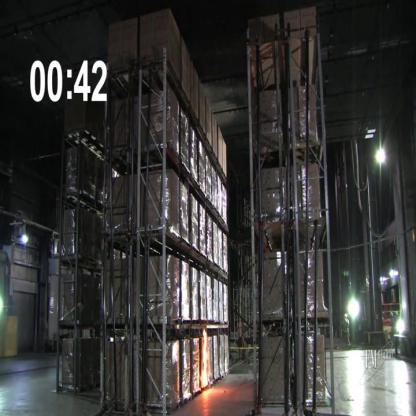fire: (199, 329, 210, 393)
